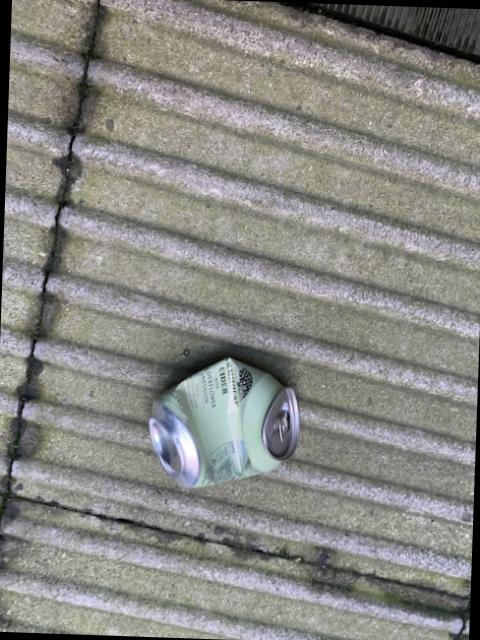metal: (149, 359, 299, 488)
